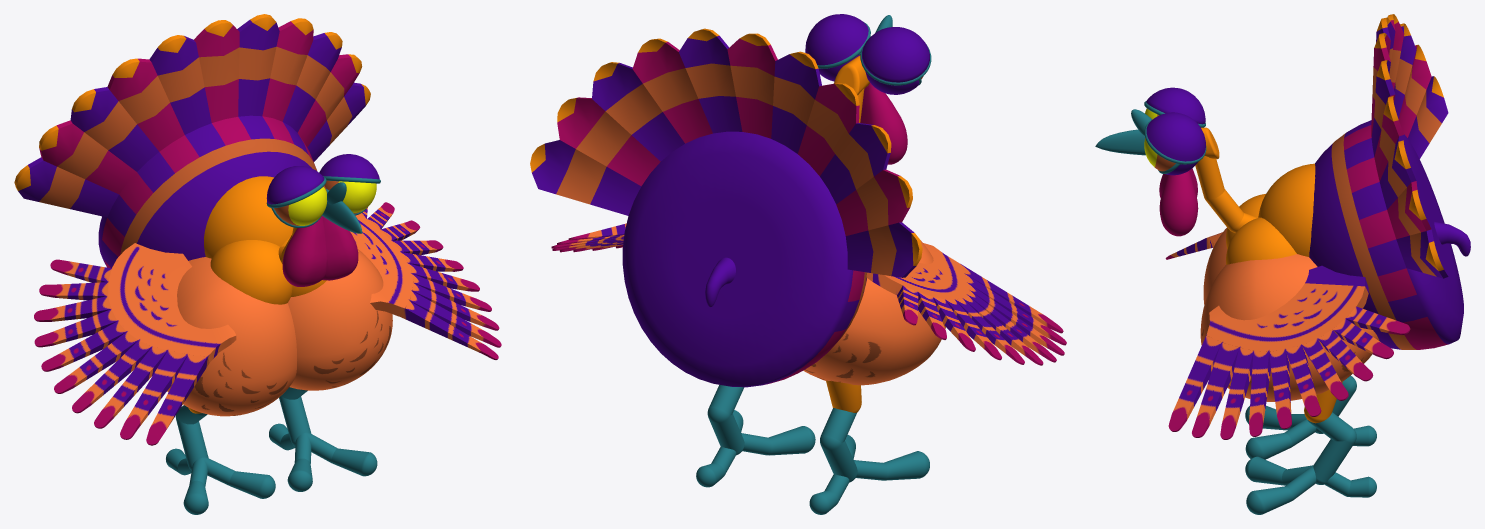
File: Fauna_Tooorkey.fbx
3 views of the same model, side by side, from view 1: azimuth 30°, elevation 25°; view 2: azimuth 150°, elevation 25°; view 3: azimuth 270°, elevation 25° (orthographic). The views are drawn at different scales.
Visible parts, largest first — view 1: butt, breast2, breast1, base2, body, chinballs, feather04, feather03, feather05, chest2, feather02, feather06 (+24 smaller); view 2: butt, breast2, lid_high (×2), feather11, feather10, feather09, feather08, feather07, feather06, feather05, feather04, feather03 (+21 smaller); view 3: butt, base1, breast1, lid_high (×2), body, chinballs, chest1, feather_01, feather_02, toeR2 (×2), feather01, feather_03 (+29 smaller).
Part boxes in pixels (box(x1,y1,x2,y2)): butt: box(98, 115, 316, 268); breast2: box(167, 257, 296, 416); breast1: box(287, 249, 392, 390); base2: box(108, 243, 236, 362); body: box(204, 176, 293, 258); chinballs: box(282, 216, 358, 286); feather04: box(107, 58, 184, 151); feather03: box(70, 87, 158, 171); feather05: box(149, 35, 211, 134); chest2: box(210, 240, 292, 304); feather02: box(39, 120, 136, 194); feather06: box(194, 20, 239, 122); butt: box(622, 131, 866, 387); breast2: box(803, 240, 945, 385); lid_high (×2): box(805, 14, 929, 82); feather11: box(530, 140, 641, 215); feather10: box(557, 97, 660, 186); feather09: box(592, 62, 684, 161); feather08: box(632, 38, 712, 143); feather07: box(679, 28, 742, 133); feather06: box(727, 33, 777, 138); feather05: box(771, 51, 821, 153); feather04: box(798, 83, 859, 176); feather03: box(820, 123, 891, 204); butt: box(1309, 120, 1463, 349); base1: box(1206, 265, 1368, 351); breast1: box(1200, 254, 1379, 401); lid_high (×2): box(1146, 87, 1205, 161); body: box(1258, 163, 1315, 256); chinballs: box(1159, 168, 1198, 236); chest1: box(1226, 217, 1296, 264); feather_01: box(1168, 336, 1220, 431); feather_02: box(1192, 342, 1239, 437); toeR2 (×2): box(1245, 433, 1292, 485); feather01: box(1408, 76, 1448, 158); feather_03: box(1220, 347, 1253, 439).
Bounding box in the file's own units: 91.81 × 88.83 × 69.2.
11 materials, 2 textured.
